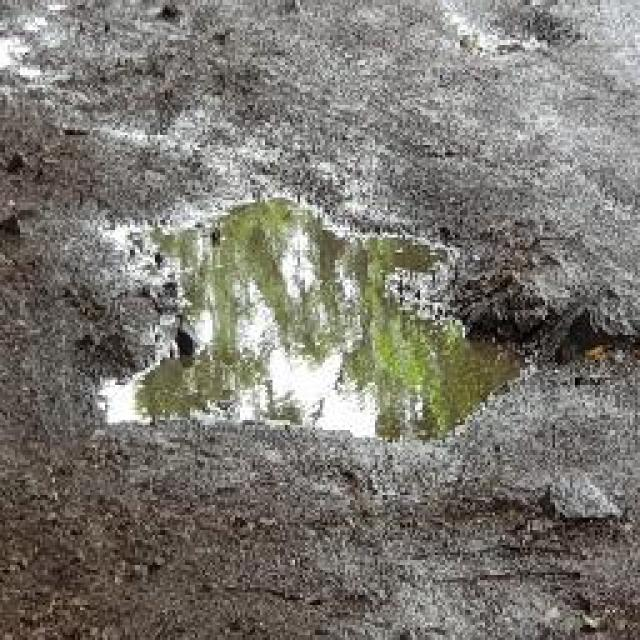stagnation: (125, 178, 621, 496)
